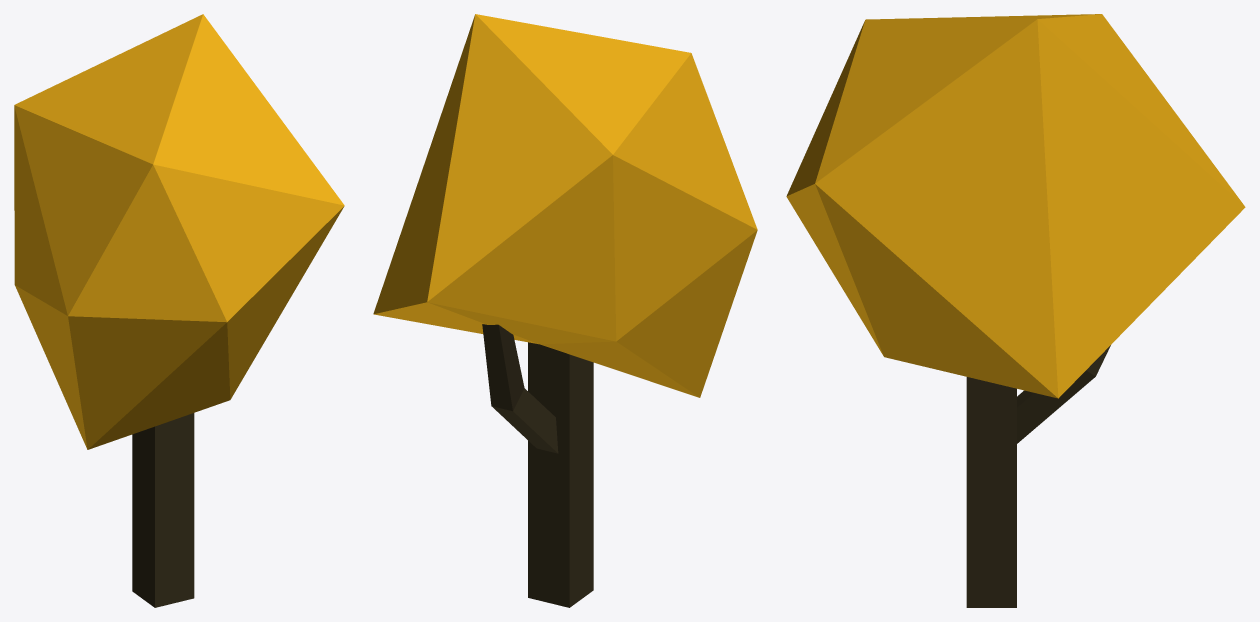
Rendered from tree2.fbx.
The picture shows the model from 3 angles, left to right: view 1: azimuth 30°, elevation 25°; view 2: azimuth 150°, elevation 25°; view 3: azimuth 270°, elevation 25°; orthographic projection. The views are drawn at different scales.
Visible parts, largest first — view 1: Icosphere.001, Cube.001; view 2: Icosphere.001, Cube.001, Cube.003; view 3: Icosphere.001, Cube.001, Cube.003.
Boxes of the visible parts, box(x1,y1,x2,y2) form: Icosphere.001: box(14, 14, 344, 449); Cube.001: box(132, 413, 194, 607); Icosphere.001: box(373, 14, 757, 397); Cube.001: box(528, 342, 593, 607); Cube.003: box(482, 324, 558, 453); Icosphere.001: box(786, 14, 1245, 398); Cube.001: box(966, 377, 1016, 607); Cube.003: box(1017, 345, 1110, 443).
Bounding box in the file's own units: 498 × 907 × 618.
